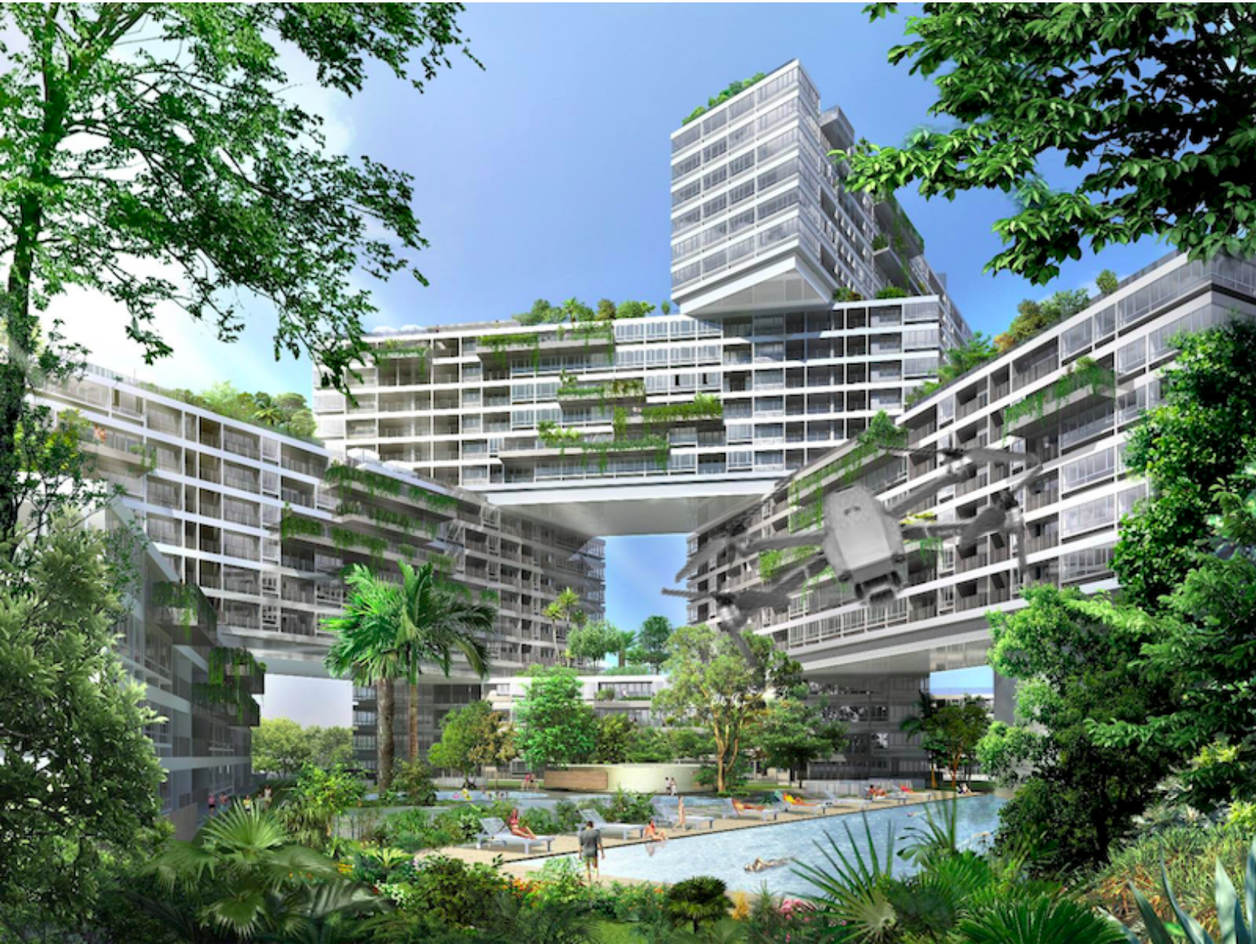drone_other: (661, 441, 1057, 675)
